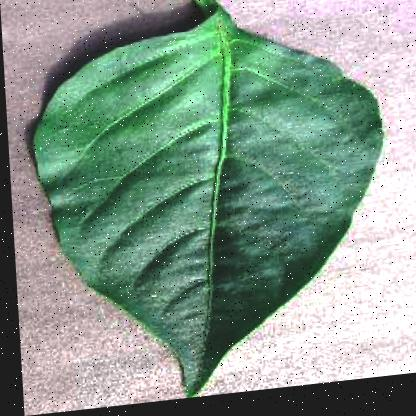Healthy: (21, 0, 393, 413)
